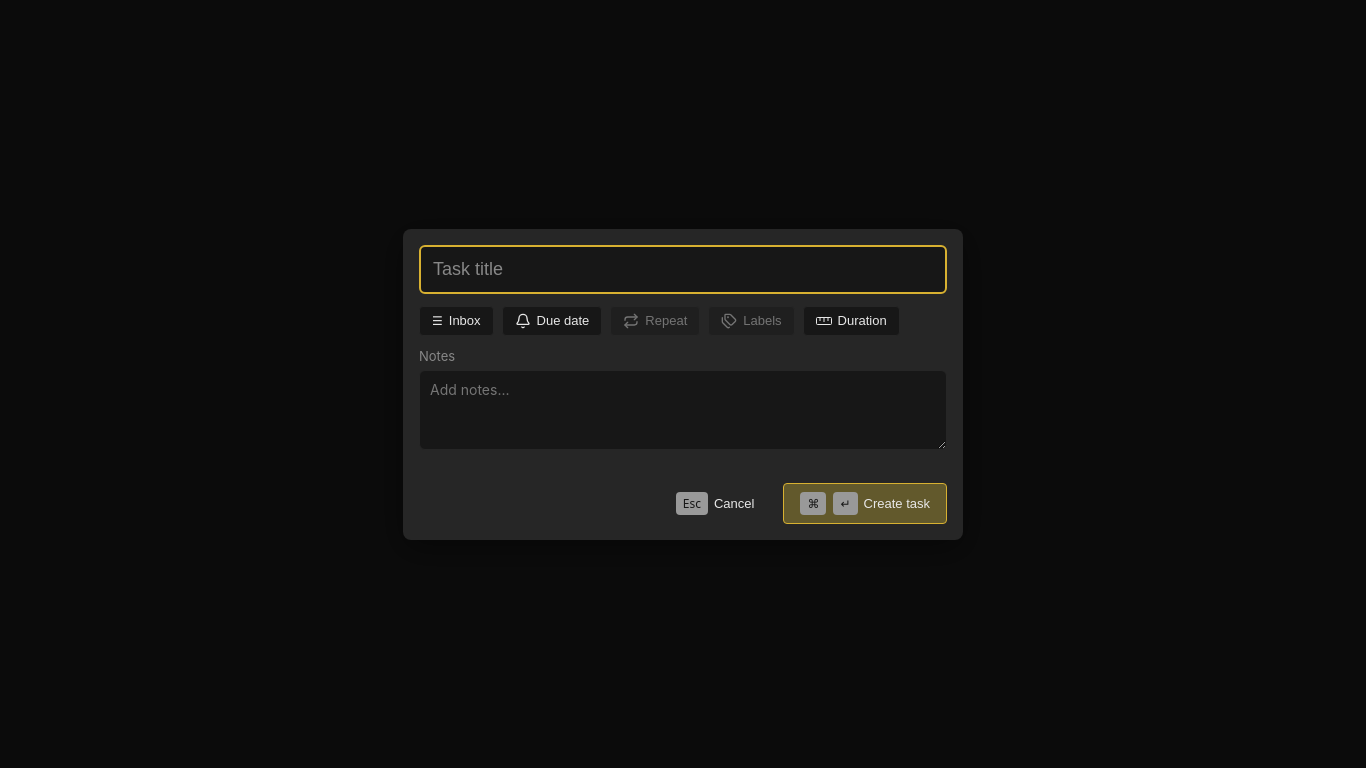
Test case: QuickAddModal › opens list dropdown when clicking Inbox button
This screenshot has width=1366, height=768.
Click the button "☰ Inbox" at (456, 320), box [419,306,494,336]
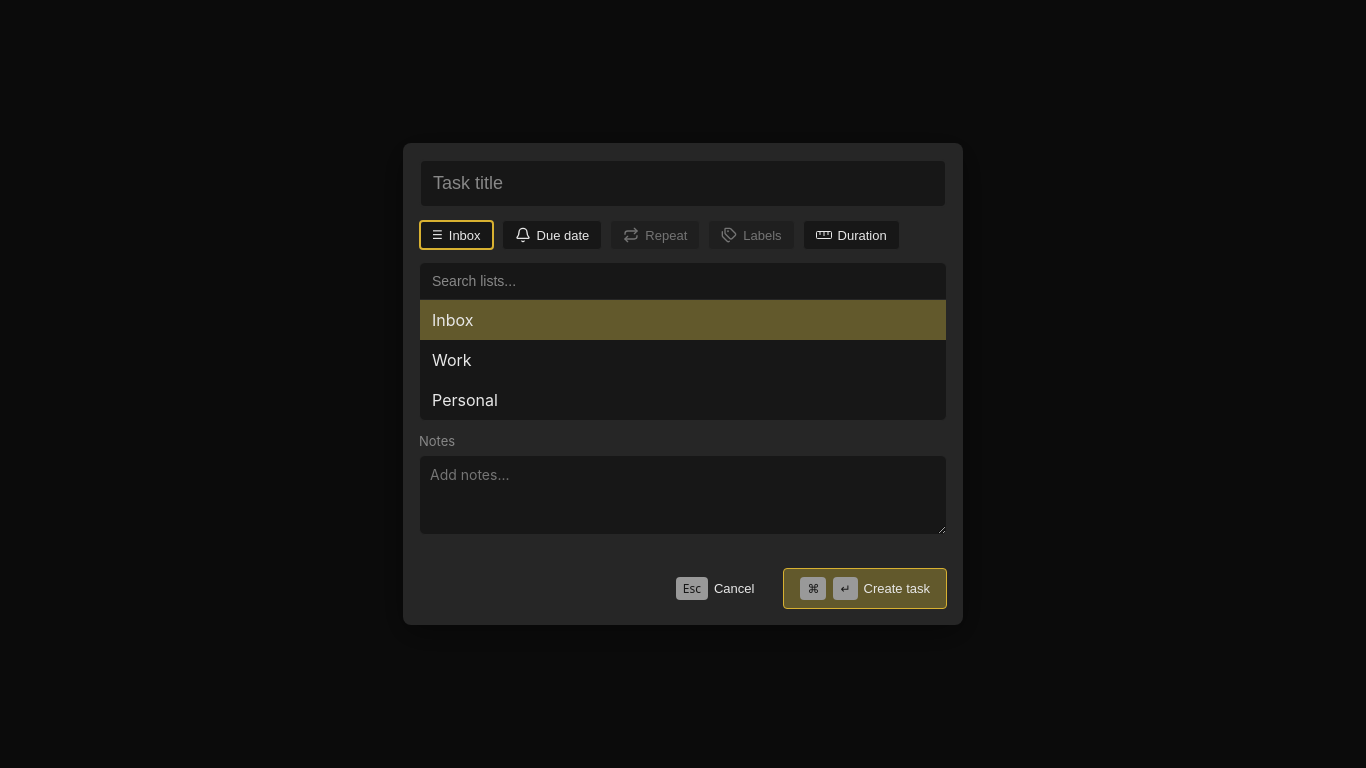
Now the element showing "Inbox Work Personal" is shown, box [419,262,947,421]
Now the text "Inbox" is shown, box [420,300,946,340]
